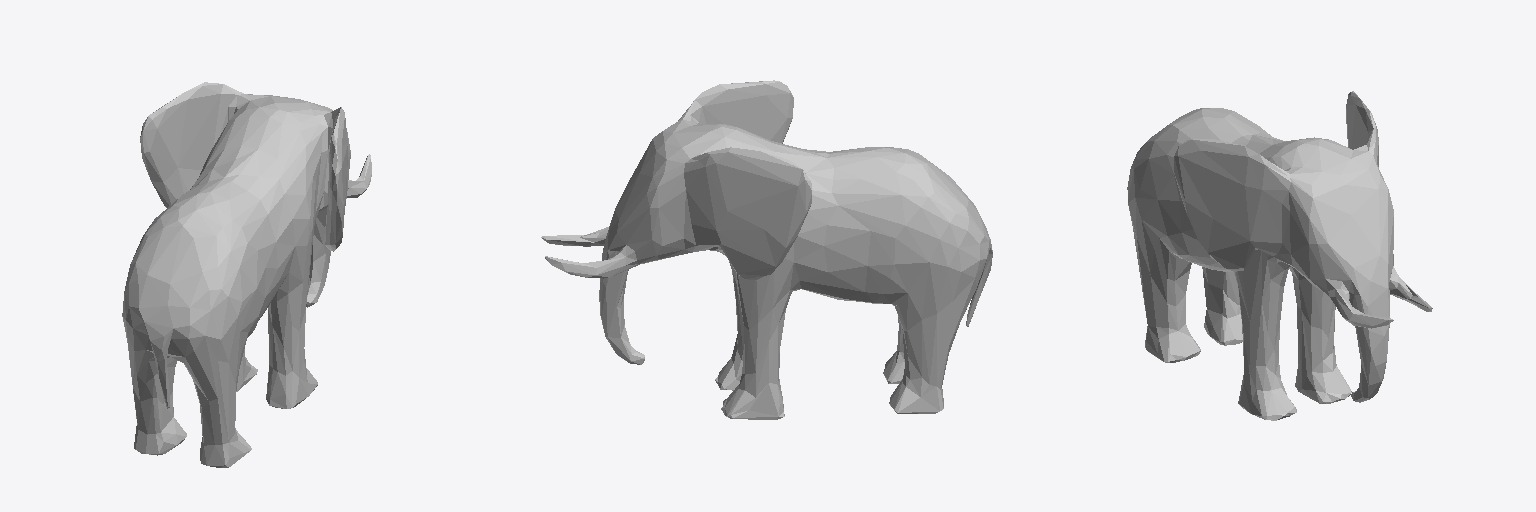
Rendered from elephant.obj.
The picture shows the model from 3 angles: view 1: azimuth 30°, elevation 25°; view 2: azimuth 150°, elevation 25°; view 3: azimuth 270°, elevation 25°; orthographic projection.
Parts seen in each view (by area): view 1: Plane.003; view 2: Plane.003; view 3: Plane.003.
Boxes of the visible parts, <box> form: Plane.003: <box>122,82,371,467</box>; Plane.003: <box>541,80,992,419</box>; Plane.003: <box>1127,91,1432,420</box>.
Bounding box in the file's own units: 25.67 × 20.51 × 19.84.